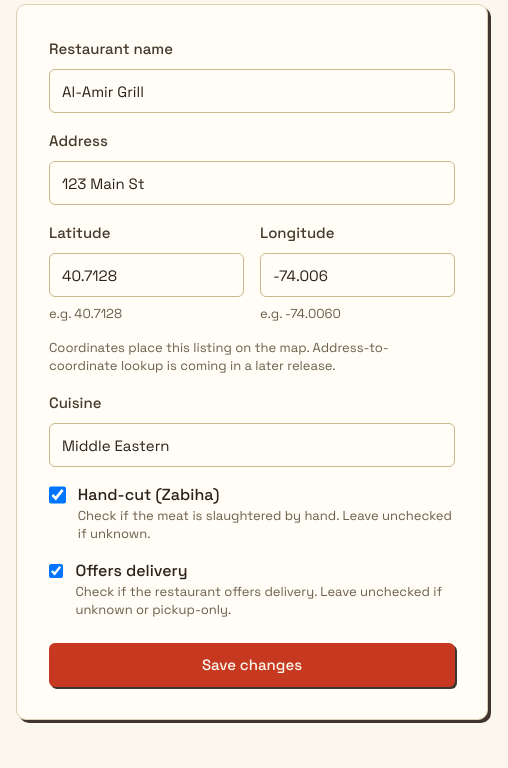
Test: EditListingPage (sc-23/47/48) — prefill + save wiring › shows an honest owner-gate error when the account does not own the listing (403)
This screenshot has width=508, height=768.
(page scrolled)
Click the button "Save changes" at (252, 665), box [49,643,455,687]
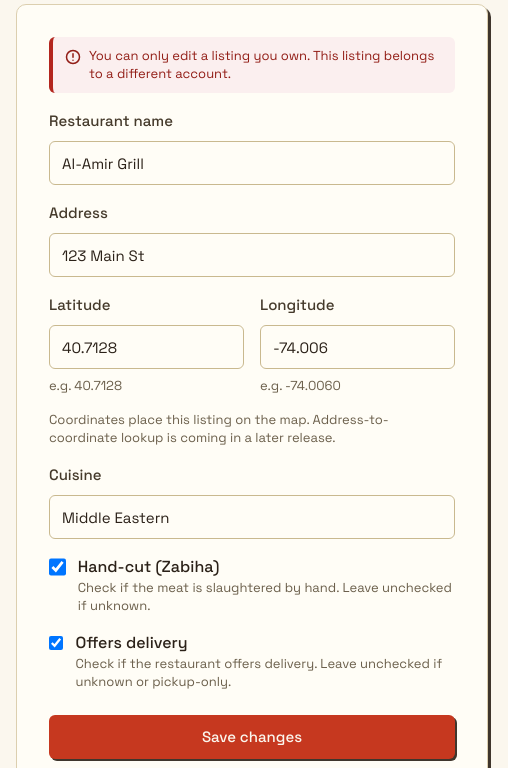
Result: the message shows "You can only edit a listing you own." at [89,47,434,82]
